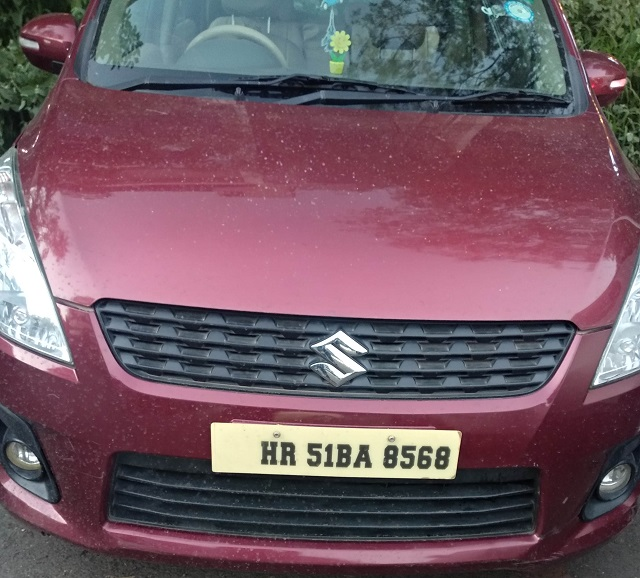licenseplate: (209, 420, 461, 484)
